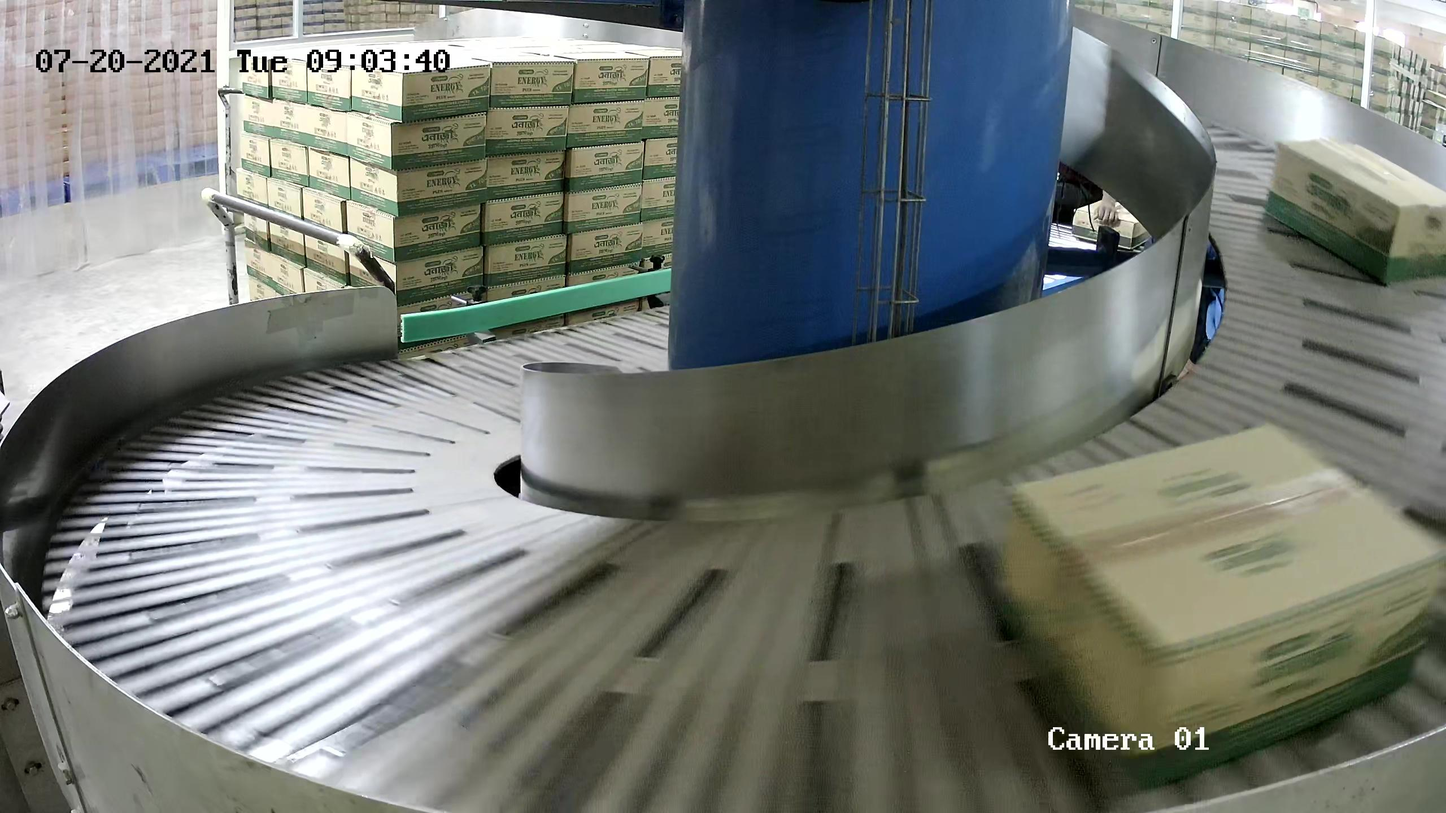Box: (984, 419, 1446, 789), (1263, 135, 1446, 287)
